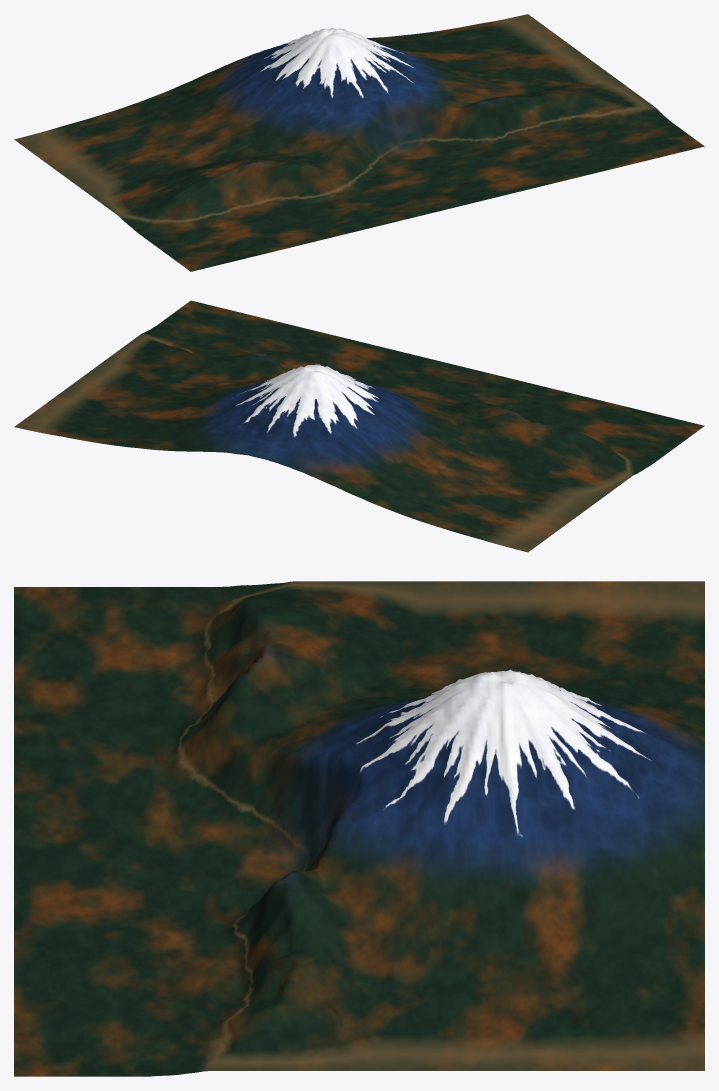
Rendered from mt_fuji_backdrop.glb.
The picture shows the model from 3 angles, top to bottom: view 1: azimuth 30°, elevation 25°; view 2: azimuth 150°, elevation 25°; view 3: azimuth 270°, elevation 25°; orthographic projection. The views are drawn at different scales.
Parts seen in each view (by area): view 1: MtFujiBackdrop; view 2: MtFujiBackdrop; view 3: MtFujiBackdrop.
Part boxes in pixels (<box>): MtFujiBackdrop: <box>14,14,704,271</box>; MtFujiBackdrop: <box>14,300,704,552</box>; MtFujiBackdrop: <box>14,581,704,1076</box>.
Bounding box in the file's own units: 2600 × 408 × 1550.
1 material, 1 textured.
